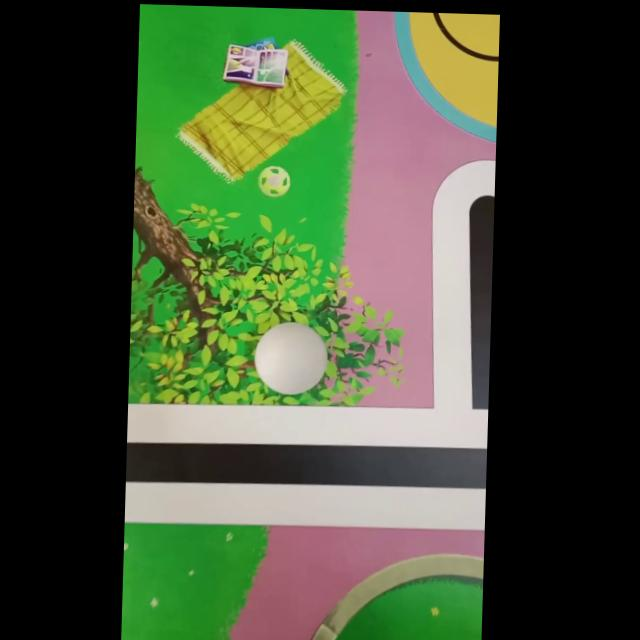white ball: (253, 320, 329, 396)
